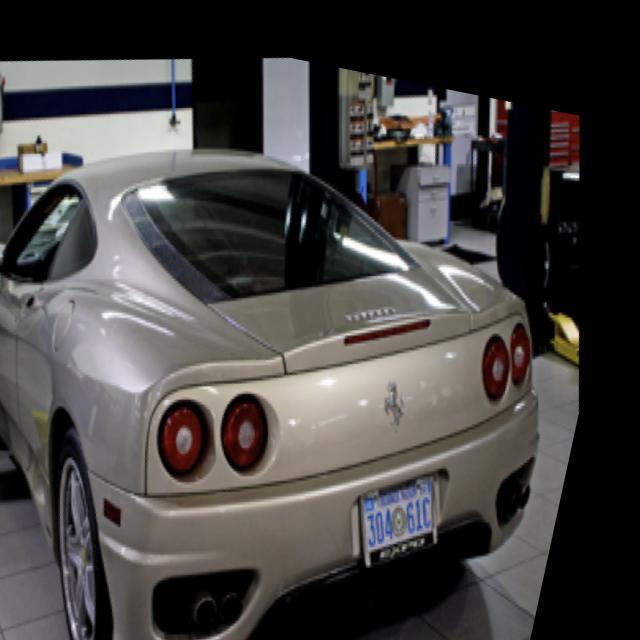license_plate: (371, 461, 464, 536)
